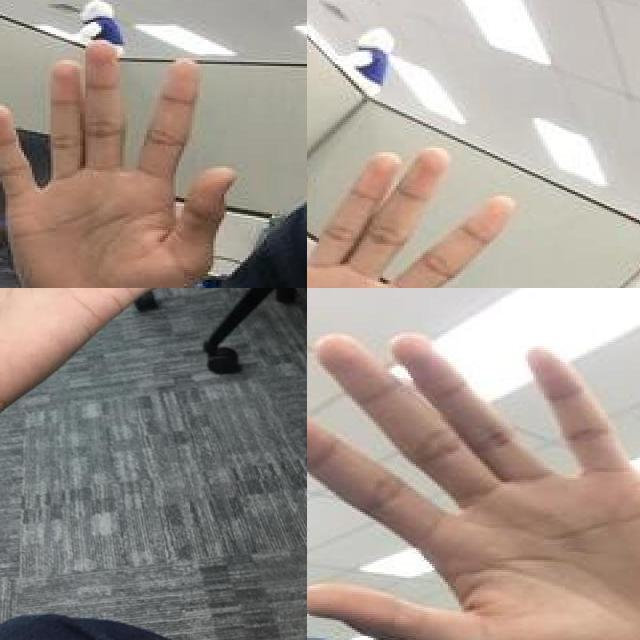no-gloves: (307, 330, 640, 640), (0, 40, 235, 288), (0, 288, 249, 443), (307, 142, 524, 288)
